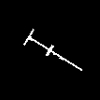double_crochet: (24, 31, 81, 70)
